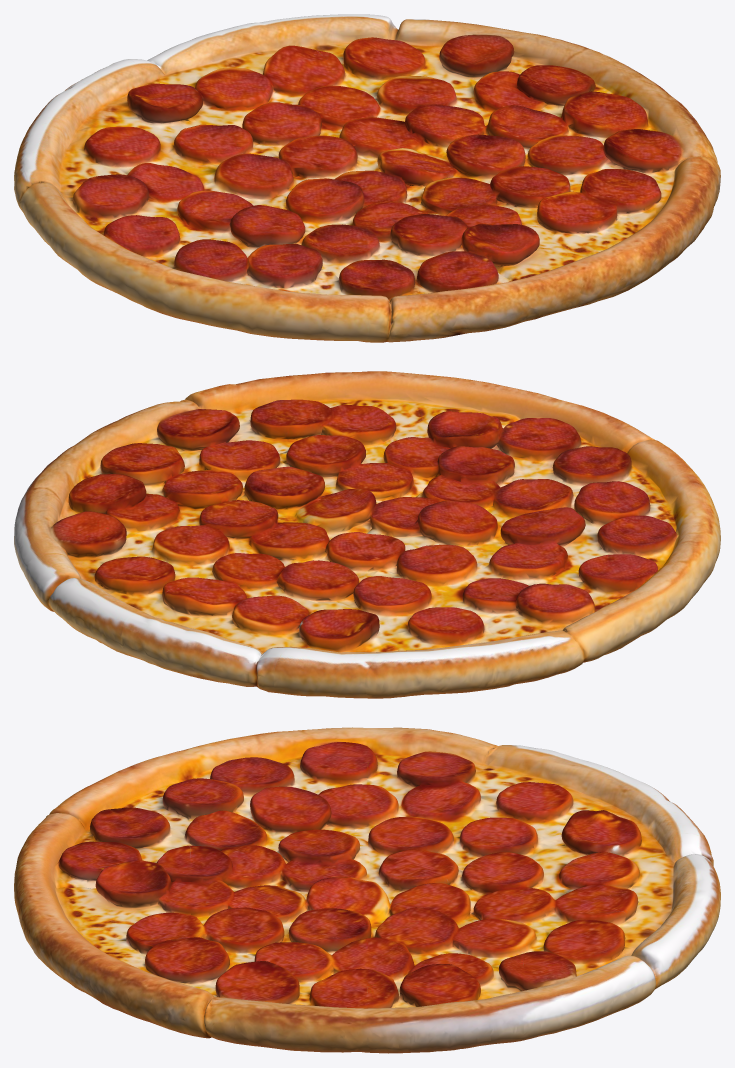
Rendered from pizza-pepperoni-grande.glb.
3 renders of one model, top to bottom at view 1: azimuth 30°, elevation 25°; view 2: azimuth 150°, elevation 25°; view 3: azimuth 270°, elevation 25°, orthographic.
Parts seen in each view (by area): view 1: world; view 2: world; view 3: world.
Part boxes in pixels (box(x1,y1,x2,y2)): world: box(14, 14, 720, 342); world: box(14, 371, 720, 698); world: box(14, 727, 720, 1053).
Size of the model in its own units: 0.35 by 0.0267 by 0.3494.
1 material, 1 textured.
